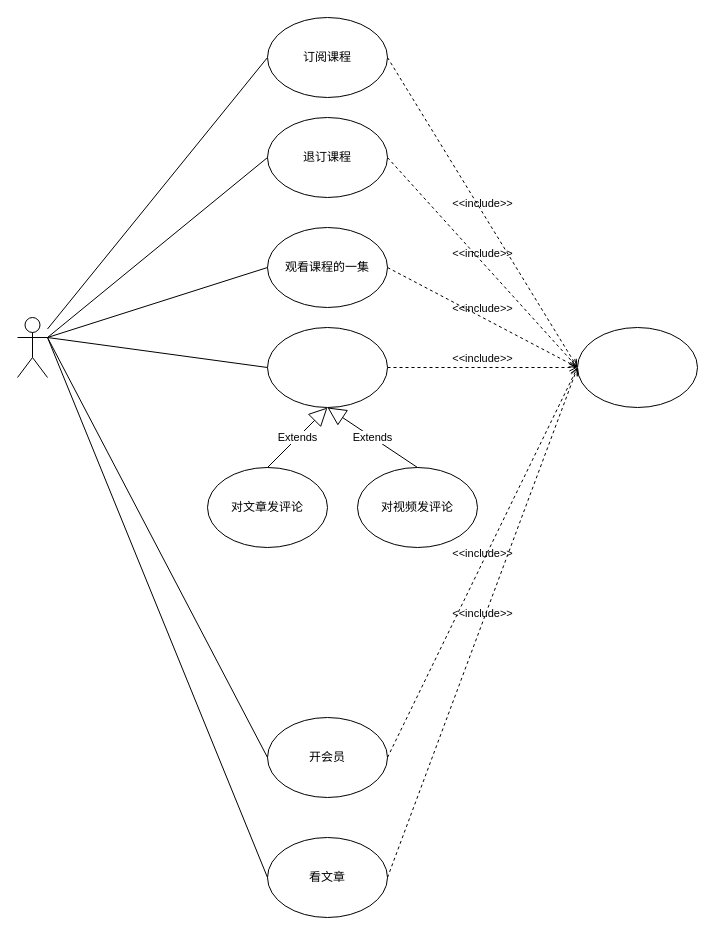
This 715x935 diagram has some shape labels left out. Each missing label, with the box of its shape:
发评论: (266, 326, 388, 408)
学生: (16, 316, 48, 378)
登录: (576, 326, 698, 408)
